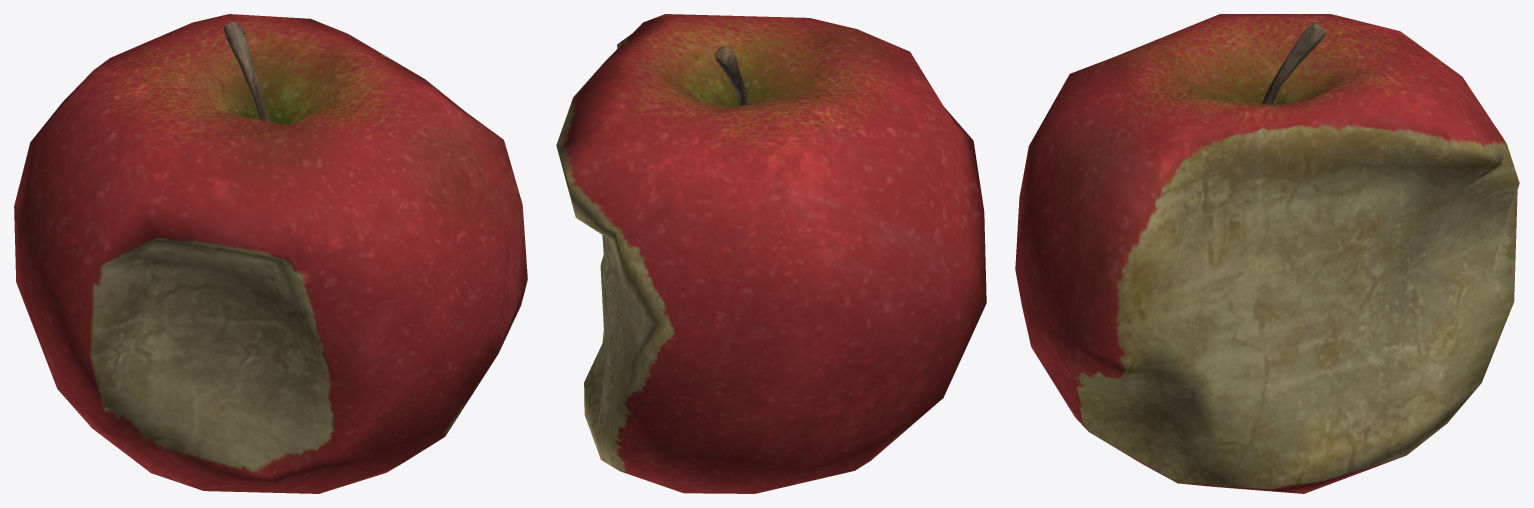
Rendered from SM_Apple_B.fbx.
3 renders of one model, left to right at view 1: azimuth 30°, elevation 25°; view 2: azimuth 150°, elevation 25°; view 3: azimuth 270°, elevation 25°, orthographic.
Parts seen in each view (by area): view 1: SM_Apple_B_LOD0; view 2: SM_Apple_B_LOD0; view 3: SM_Apple_B_LOD0.
Part boxes in pixels (left/top/right/bottom): SM_Apple_B_LOD0: left=14, top=14, right=527, bottom=493; SM_Apple_B_LOD0: left=556, top=14, right=986, bottom=493; SM_Apple_B_LOD0: left=1015, top=14, right=1519, bottom=493.
Bounding box in the file's own units: 9.8 × 10.34 × 9.49.
1 material, 1 textured.
